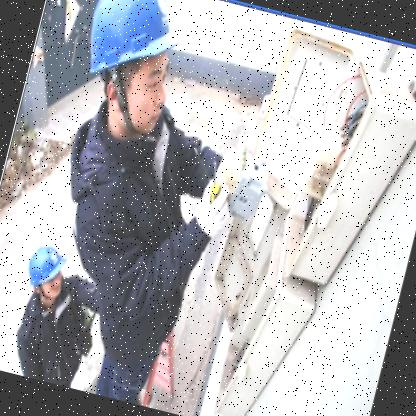capacete: (64, 0, 194, 141), (20, 238, 74, 308)
sem_colete_refletivo: (44, 102, 238, 348), (6, 284, 100, 390)
